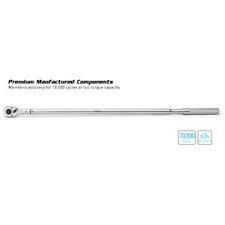wrench: (1, 103, 219, 119)
